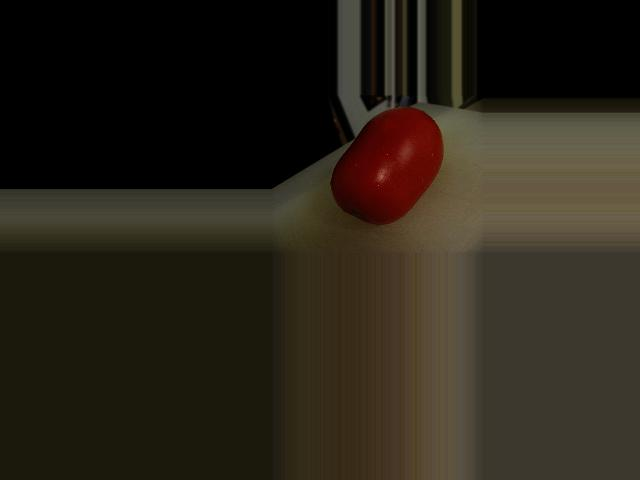tomato: (331, 106, 443, 224)
